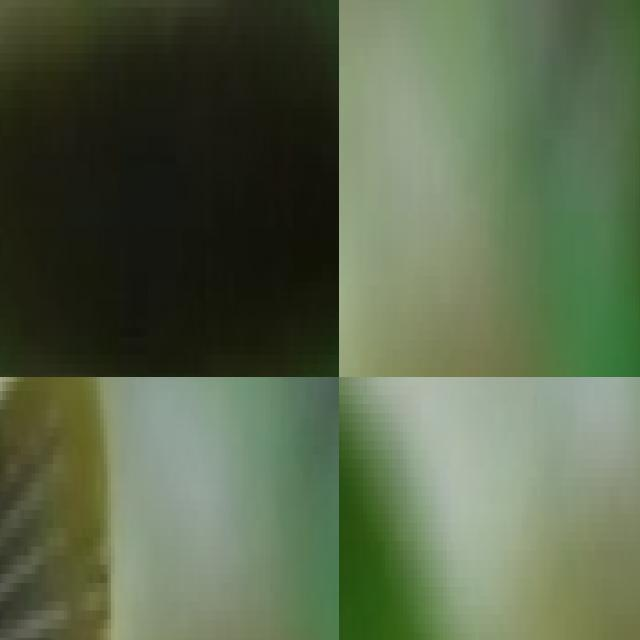fish: (0, 0, 339, 377), (0, 377, 172, 640)
